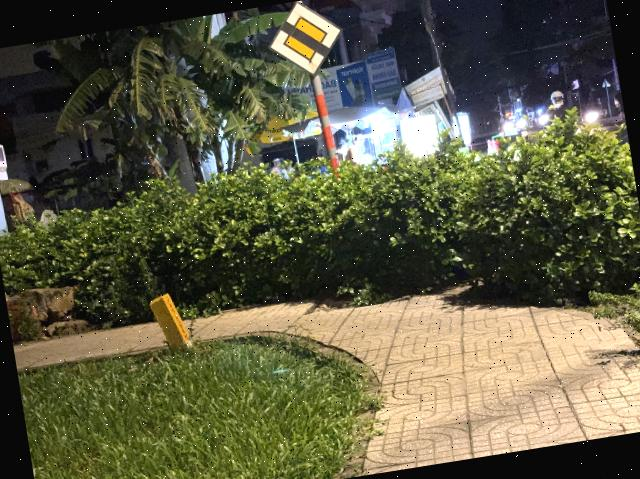het-duong-uu-tien: (261, 0, 349, 84)
